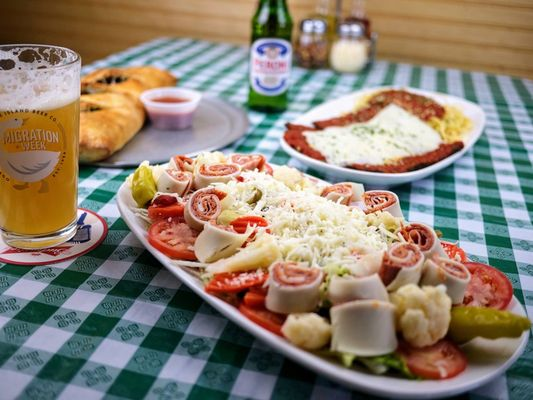pizza: (0, 43, 82, 251)
